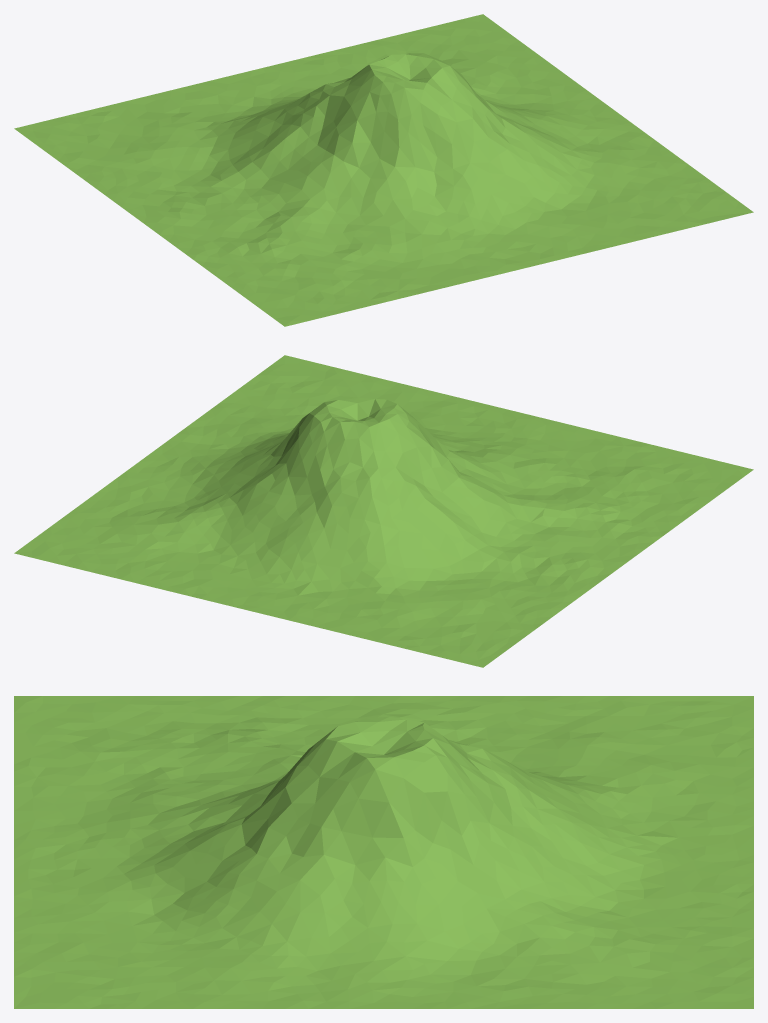
The model's file is MT_Terrain_L_a_20_LOD.fbx.
3 renders of one model, top to bottom at view 1: azimuth 30°, elevation 25°; view 2: azimuth 150°, elevation 25°; view 3: azimuth 270°, elevation 25°, orthographic. The views are drawn at different scales.
Visible parts, largest first — view 1: MT_Terrain_L_a_20_LOD0; view 2: MT_Terrain_L_a_20_LOD0; view 3: MT_Terrain_L_a_20_LOD0.
Part boxes in pixels (<box>): MT_Terrain_L_a_20_LOD0: <box>14,14,753,326</box>; MT_Terrain_L_a_20_LOD0: <box>14,355,753,667</box>; MT_Terrain_L_a_20_LOD0: <box>14,696,753,1008</box>.
Size of what is drawn, in the model's own units: 10000 by 2004 by 10000.
